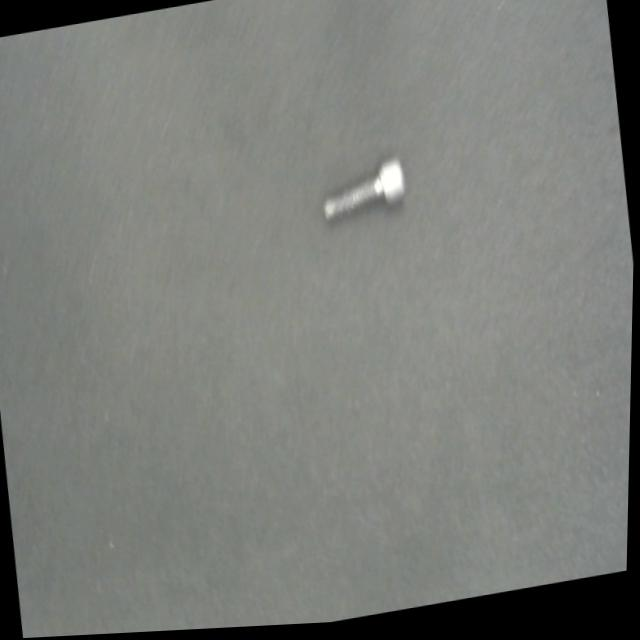SocketHeadCapScrew: (318, 158, 410, 228)
